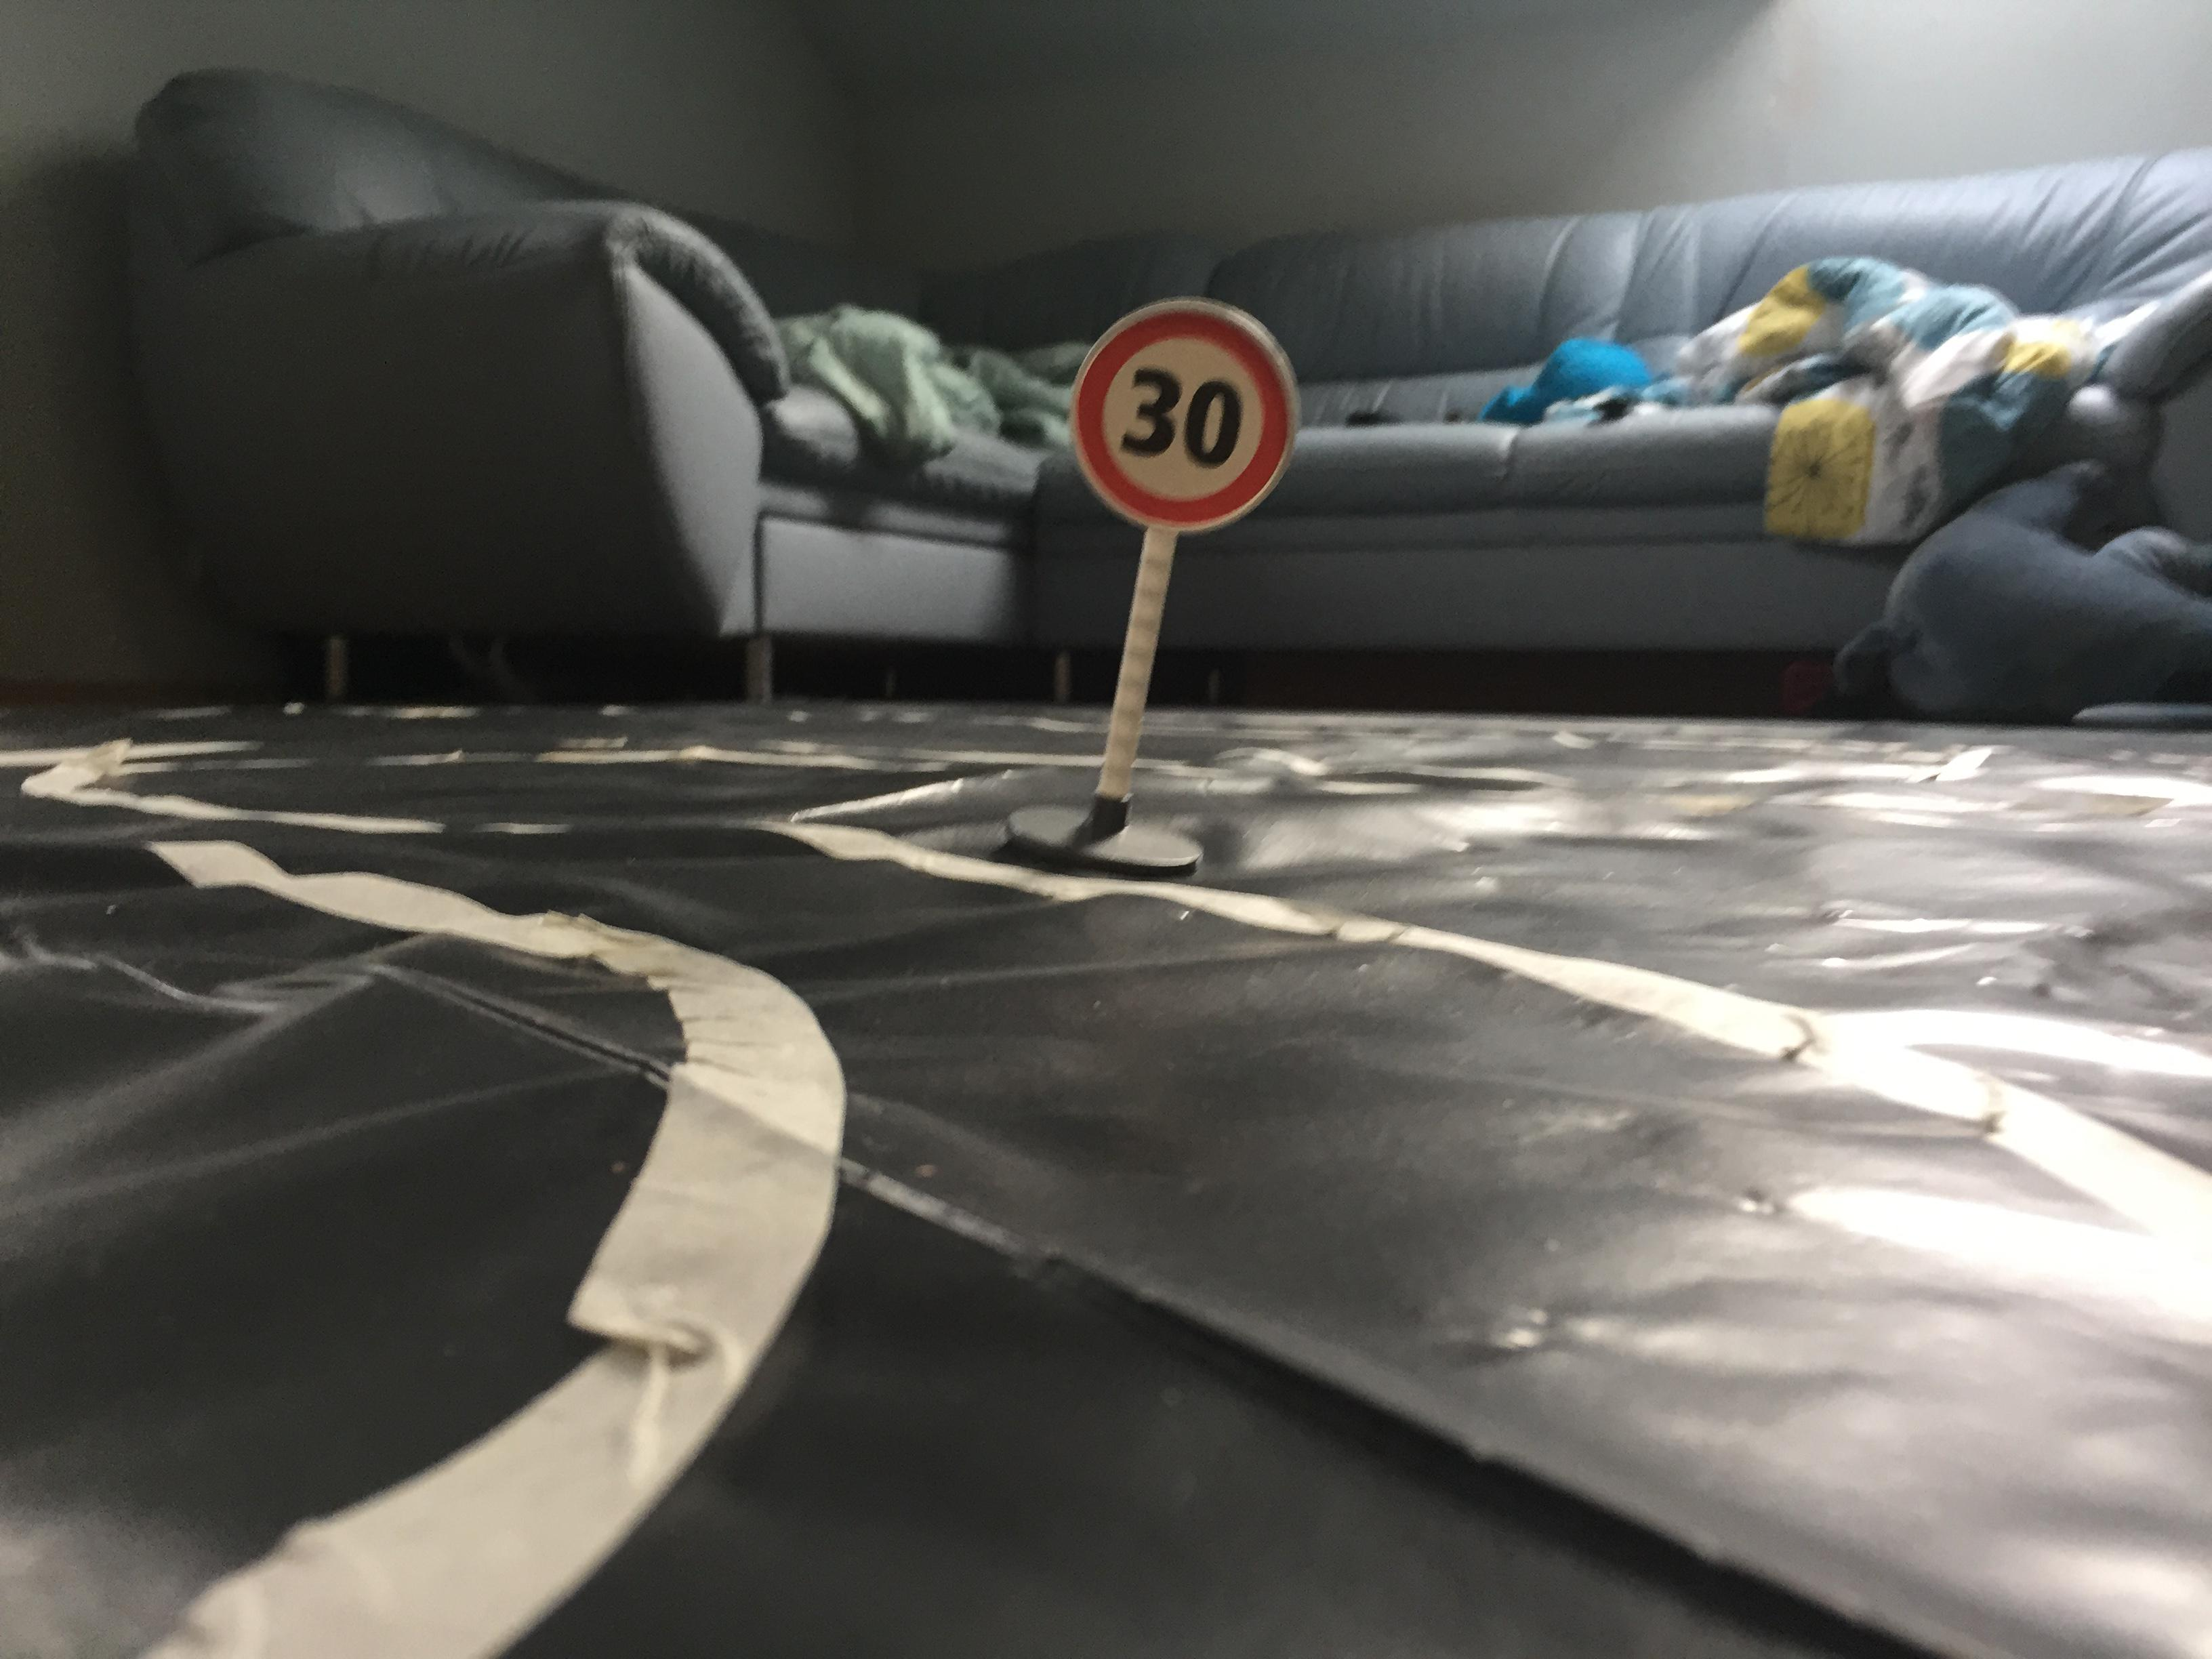speed: (1064, 288, 1310, 542)
